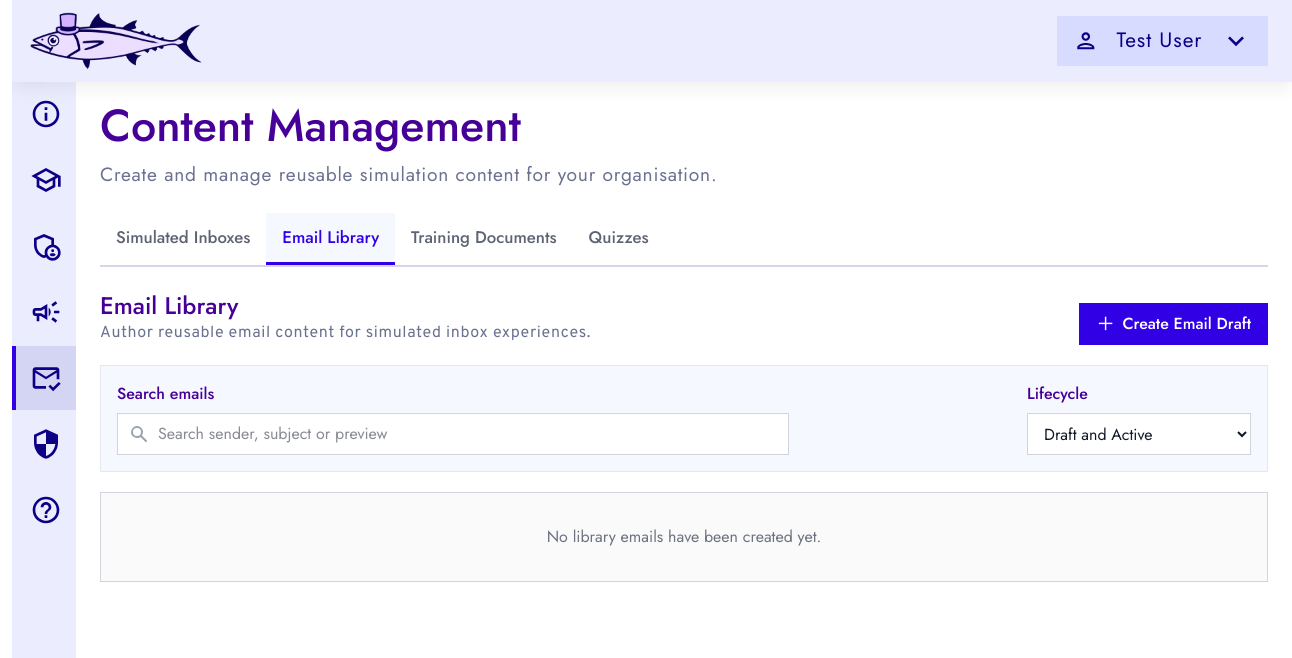
OrganisationContentManagementPage Email Library › preserves unsaved values and displays field errors when registration fails
Expected: the text "No library emails have been created yet." is shown, [100, 492, 1268, 582]
Step 1. Click the button "Create Email Draft" → (1174, 324), box [1079, 303, 1268, 345]
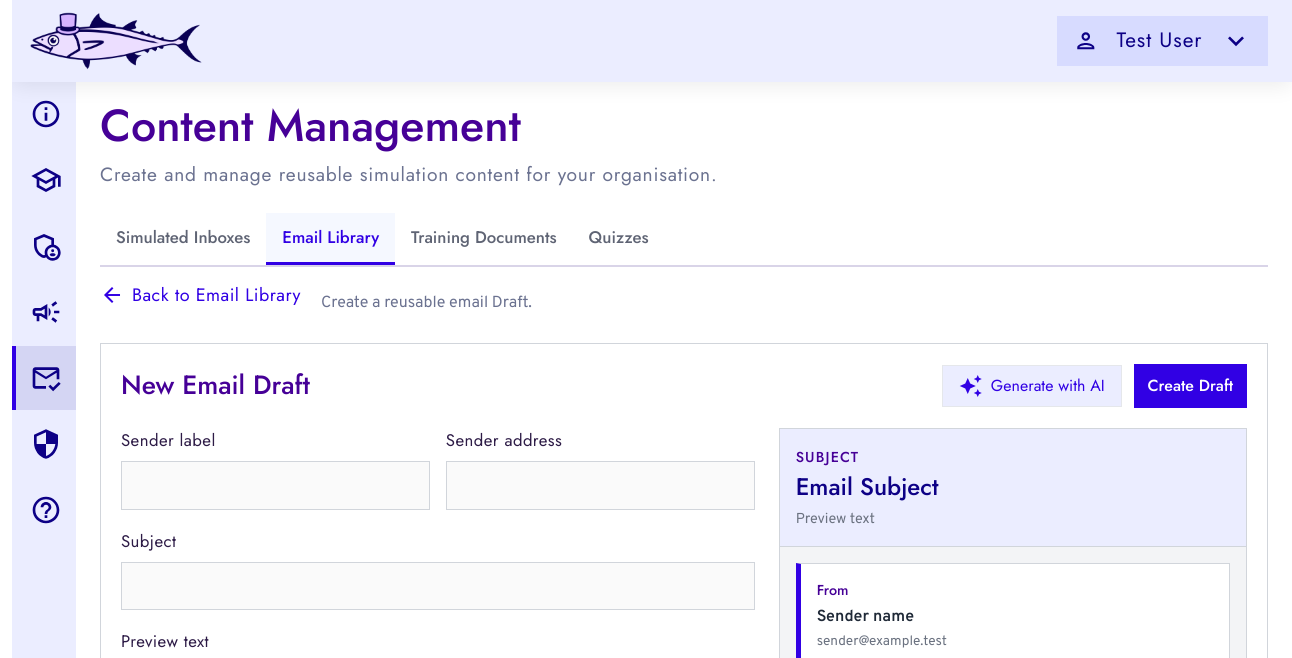
Step 2. Type "Unsaved sender" into the field labelled "Sender label" → (275, 485), box [121, 461, 430, 510]
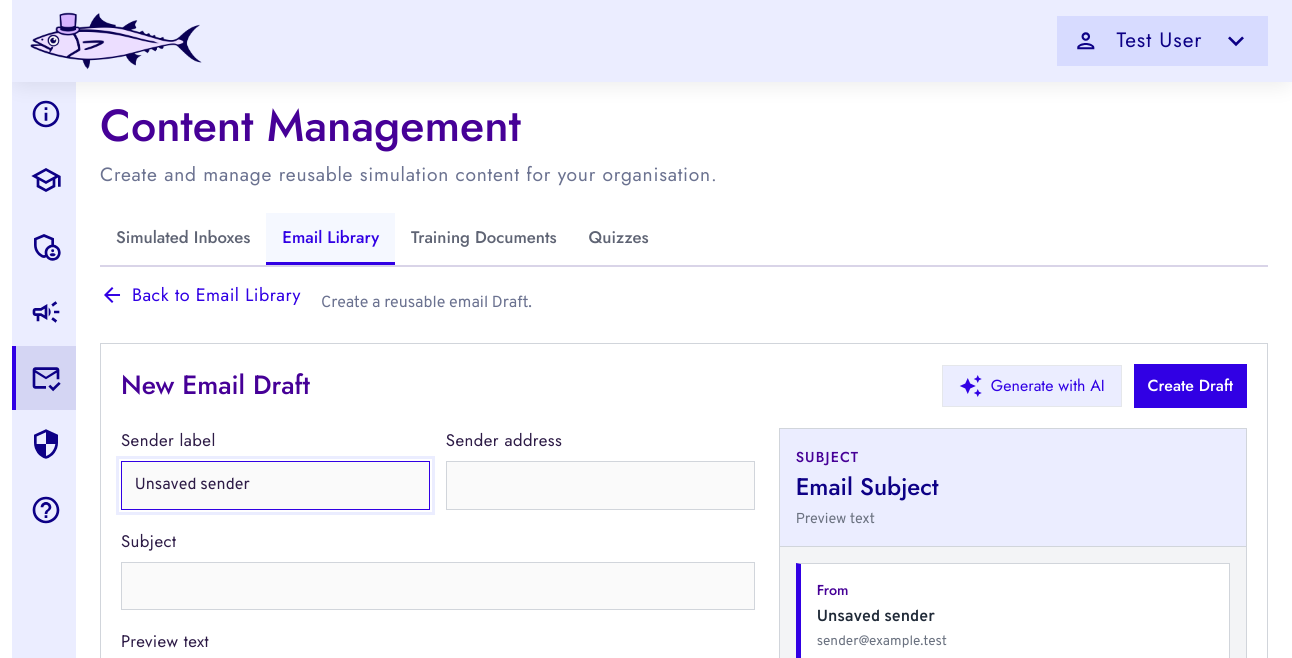
Step 3. Type "invalid" into the field labelled "Sender address" → (600, 485), box [446, 461, 755, 510]
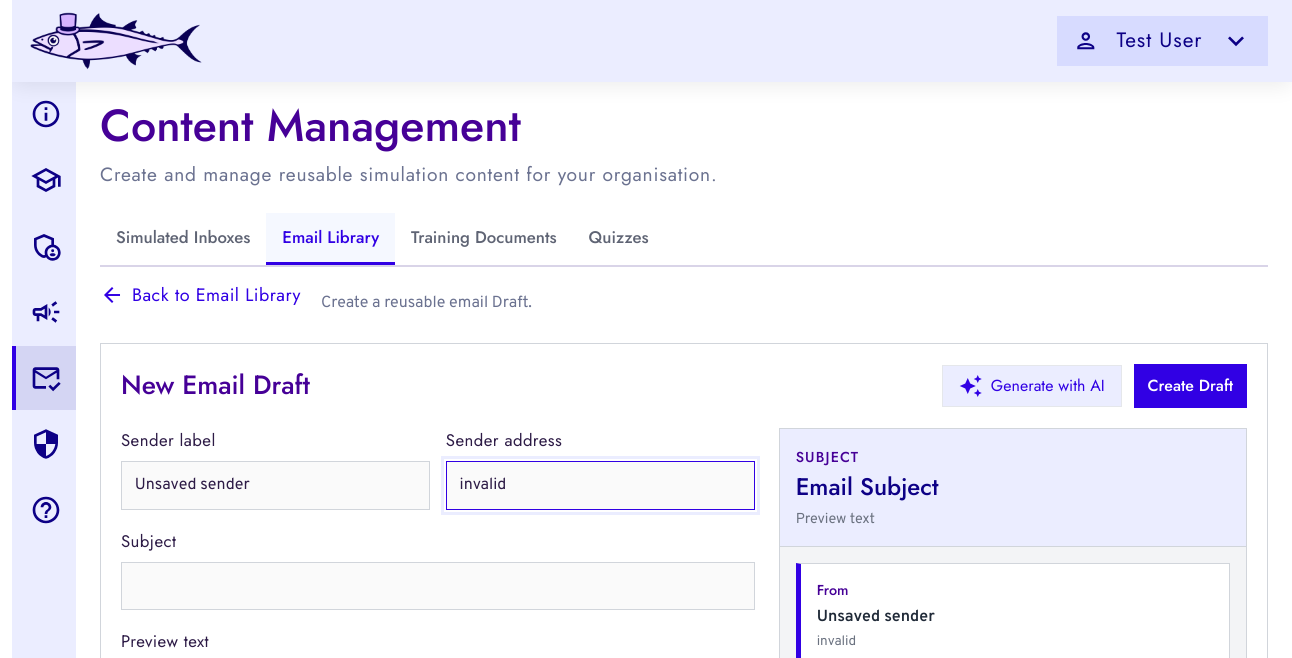
Step 4. Click the button "Create Draft" → (1190, 386), box [1134, 364, 1247, 408]
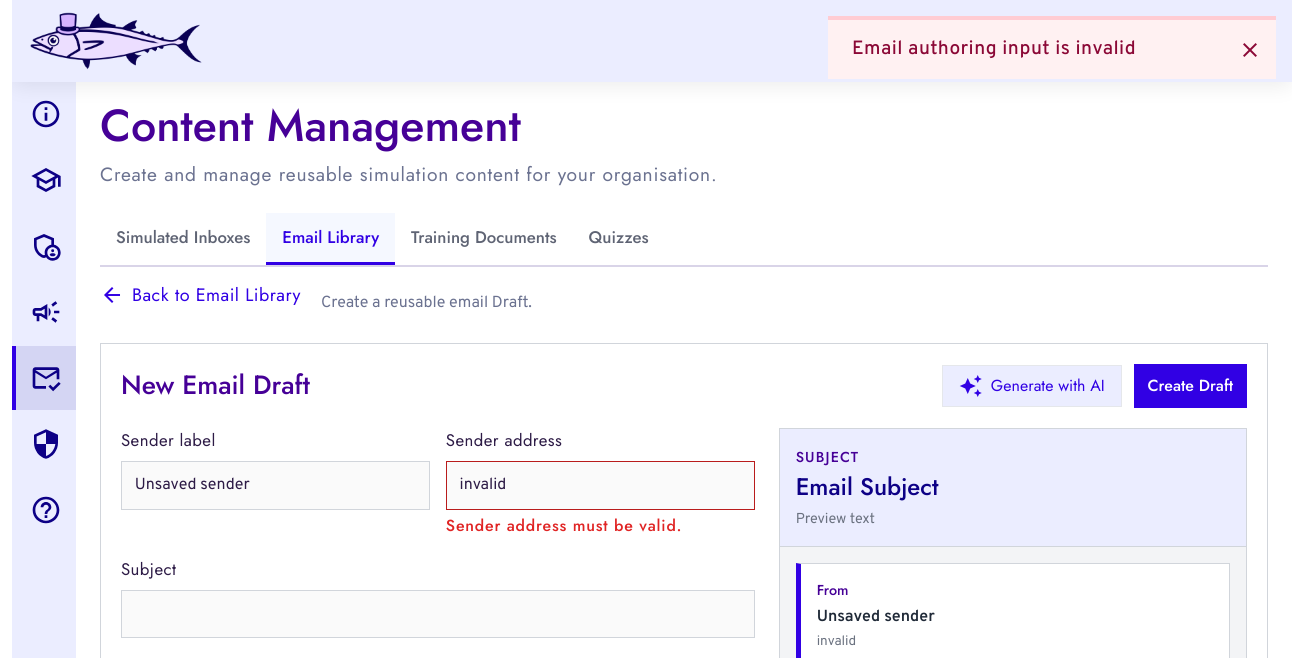
Now the text "Sender address must be valid." is shown, box [446, 514, 682, 536]
